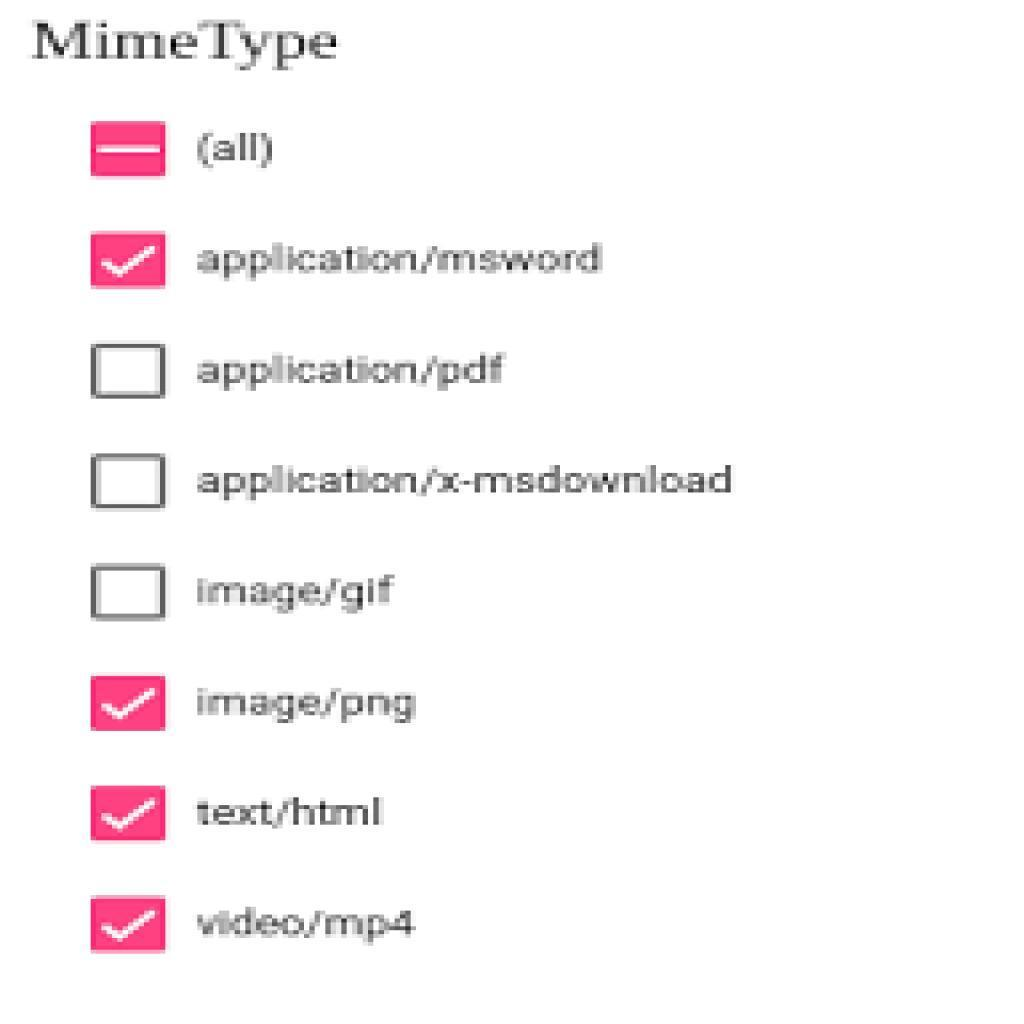checkbox: (91, 674, 168, 733), (91, 119, 168, 176), (89, 234, 167, 289), (92, 899, 167, 952), (95, 788, 166, 841), (93, 456, 165, 508), (95, 567, 163, 622), (95, 344, 162, 397)
